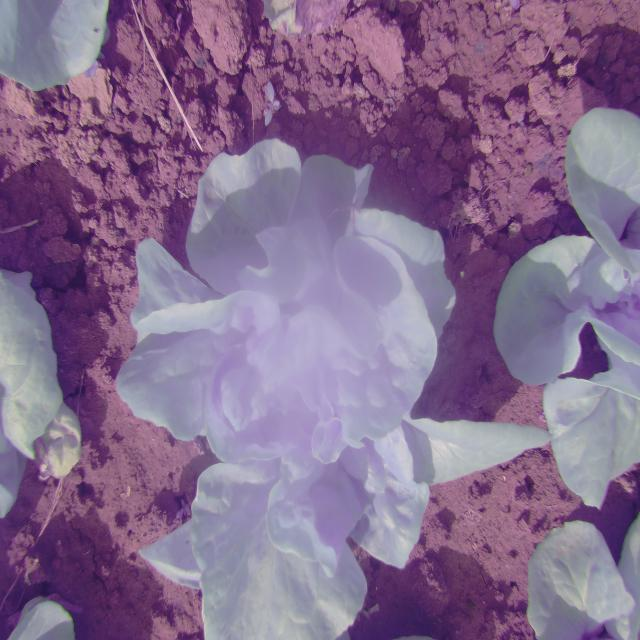vege: (117, 135, 483, 640)
